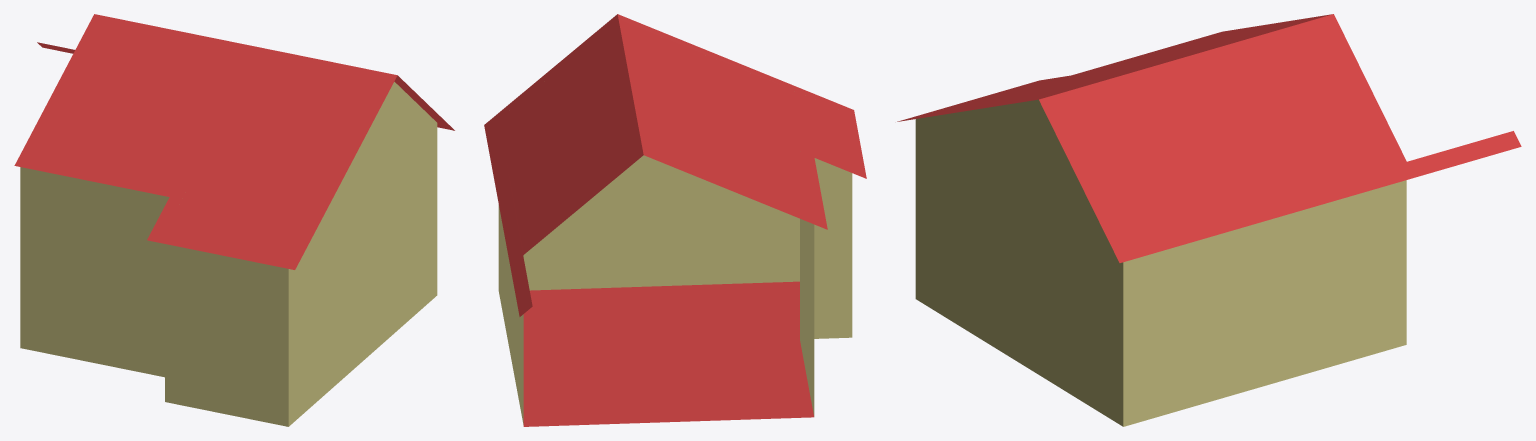
The picture shows the model from 3 angles, left to right: view 1: azimuth 30°, elevation 25°; view 2: azimuth 150°, elevation 25°; view 3: azimuth 270°, elevation 25°; orthographic projection. The views are drawn at different scales.
Bounding box in the file's own units: 16.59 × 21.51 × 10.84.
